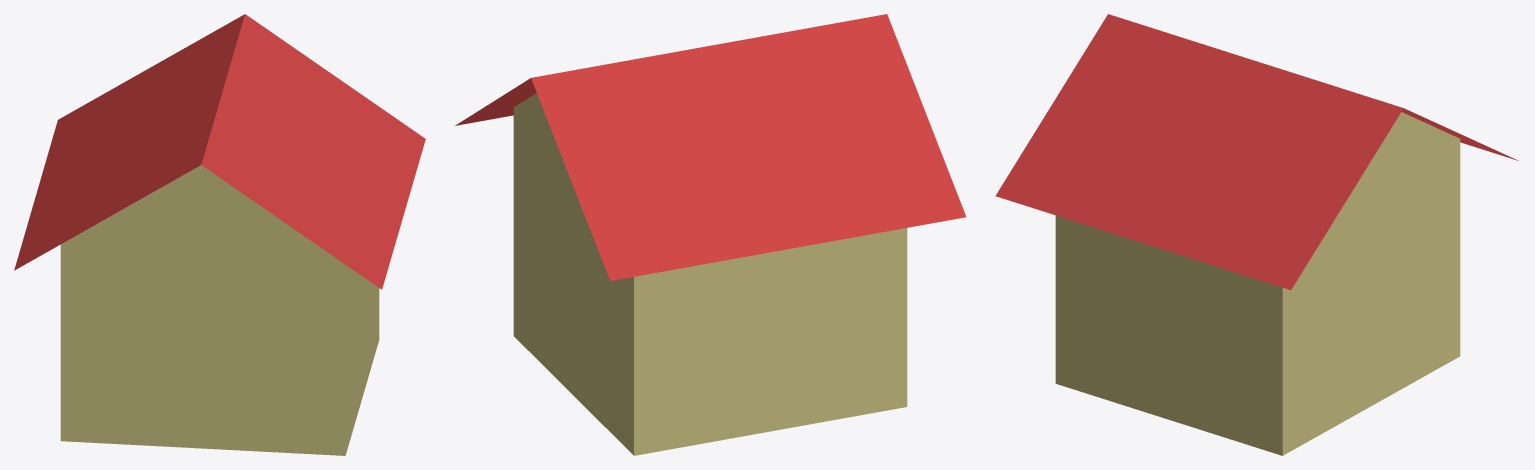
The picture shows the model from 3 angles, left to right: view 1: azimuth 30°, elevation 25°; view 2: azimuth 150°, elevation 25°; view 3: azimuth 270°, elevation 25°; orthographic projection. The views are drawn at different scales.
Visible parts, largest first — view 1: group_5, group_3, group_4; view 2: group_3, group_5; view 3: group_5, group_3, group_4.
Boxes of the visible parts, <box> form: group_5: <box>60,165,379,455</box>; group_3: <box>14,14,403,283</box>; group_4: <box>157,14,425,289</box>; group_3: <box>455,14,966,280</box>; group_5: <box>513,93,907,455</box>; group_5: <box>1055,112,1460,455</box>; group_3: <box>1041,25,1403,289</box>; group_4: <box>995,14,1518,289</box>.
Bounding box in the file's own units: 18.37 × 18.29 × 11.91.
